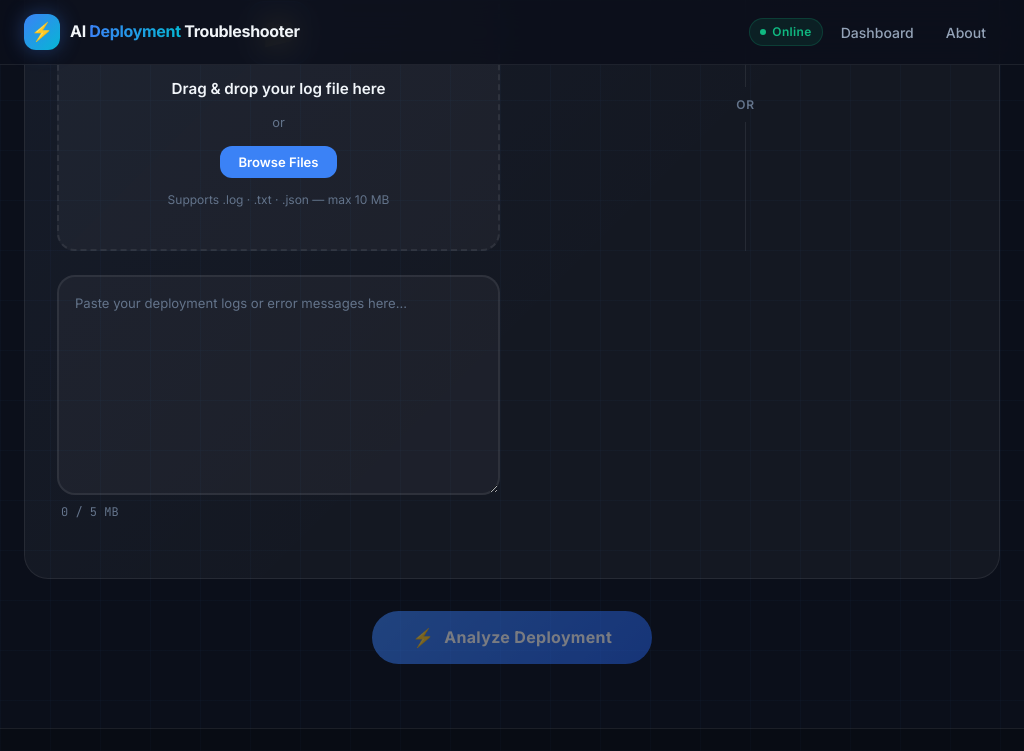
App - loading state › shows loading UI after Analyze is clicked
(page scrolled)
Step 1. Type "log data" into the text box named "deployment log content" → (278, 385), box [57,275,500,495]
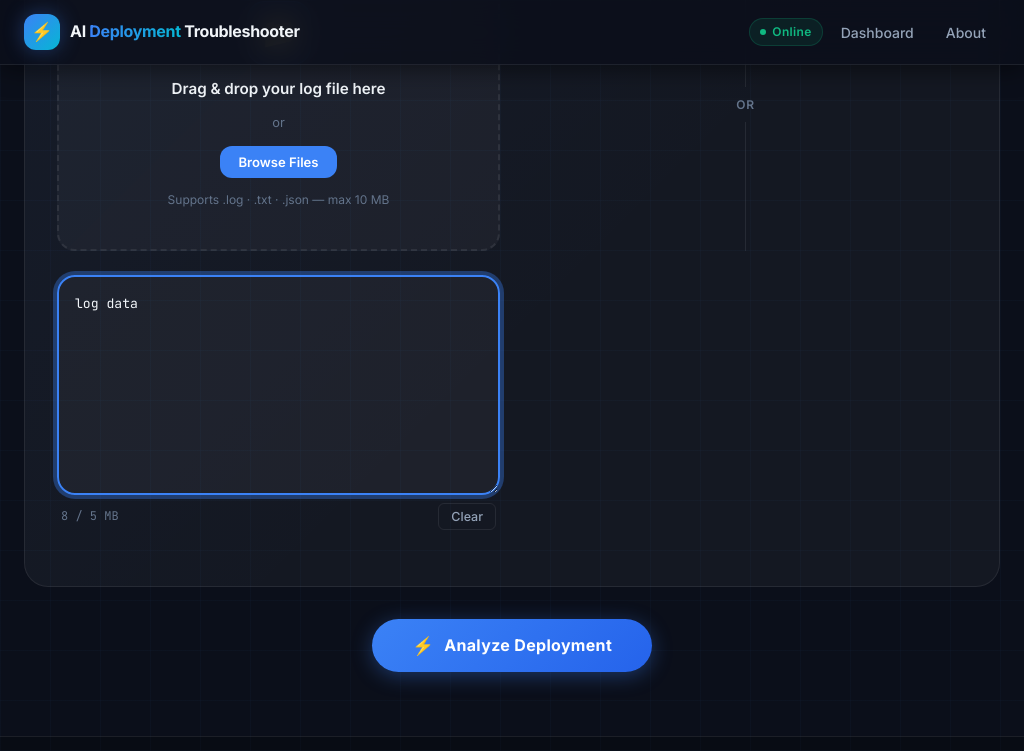
Step 2. Click the button "⚡ Analyze Deployment" → (512, 645), box [372,619,652,672]
(page scrolled)
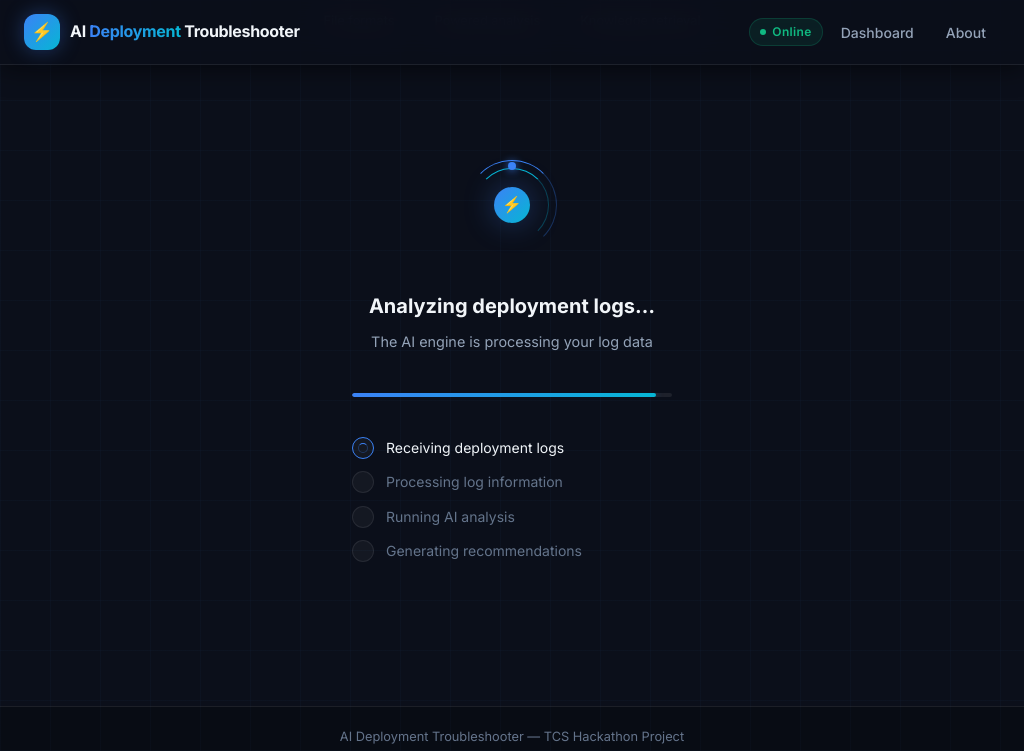
Result: the message is shown at [352,160,672,562]
